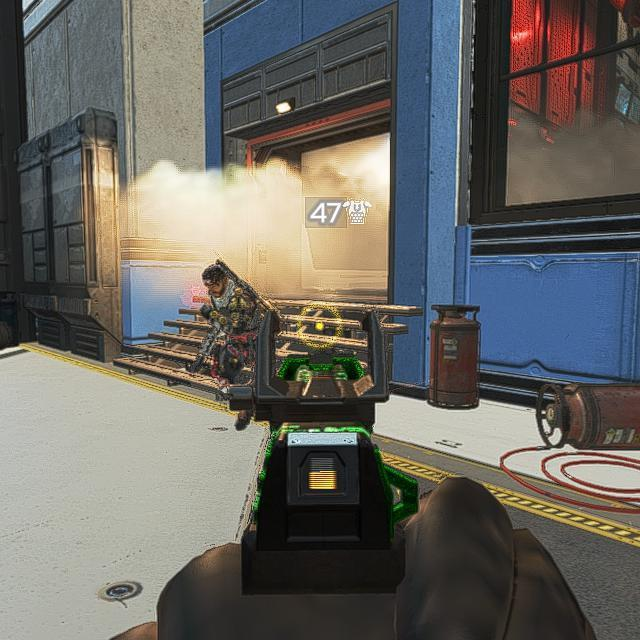avatar: (199, 259, 258, 434)
